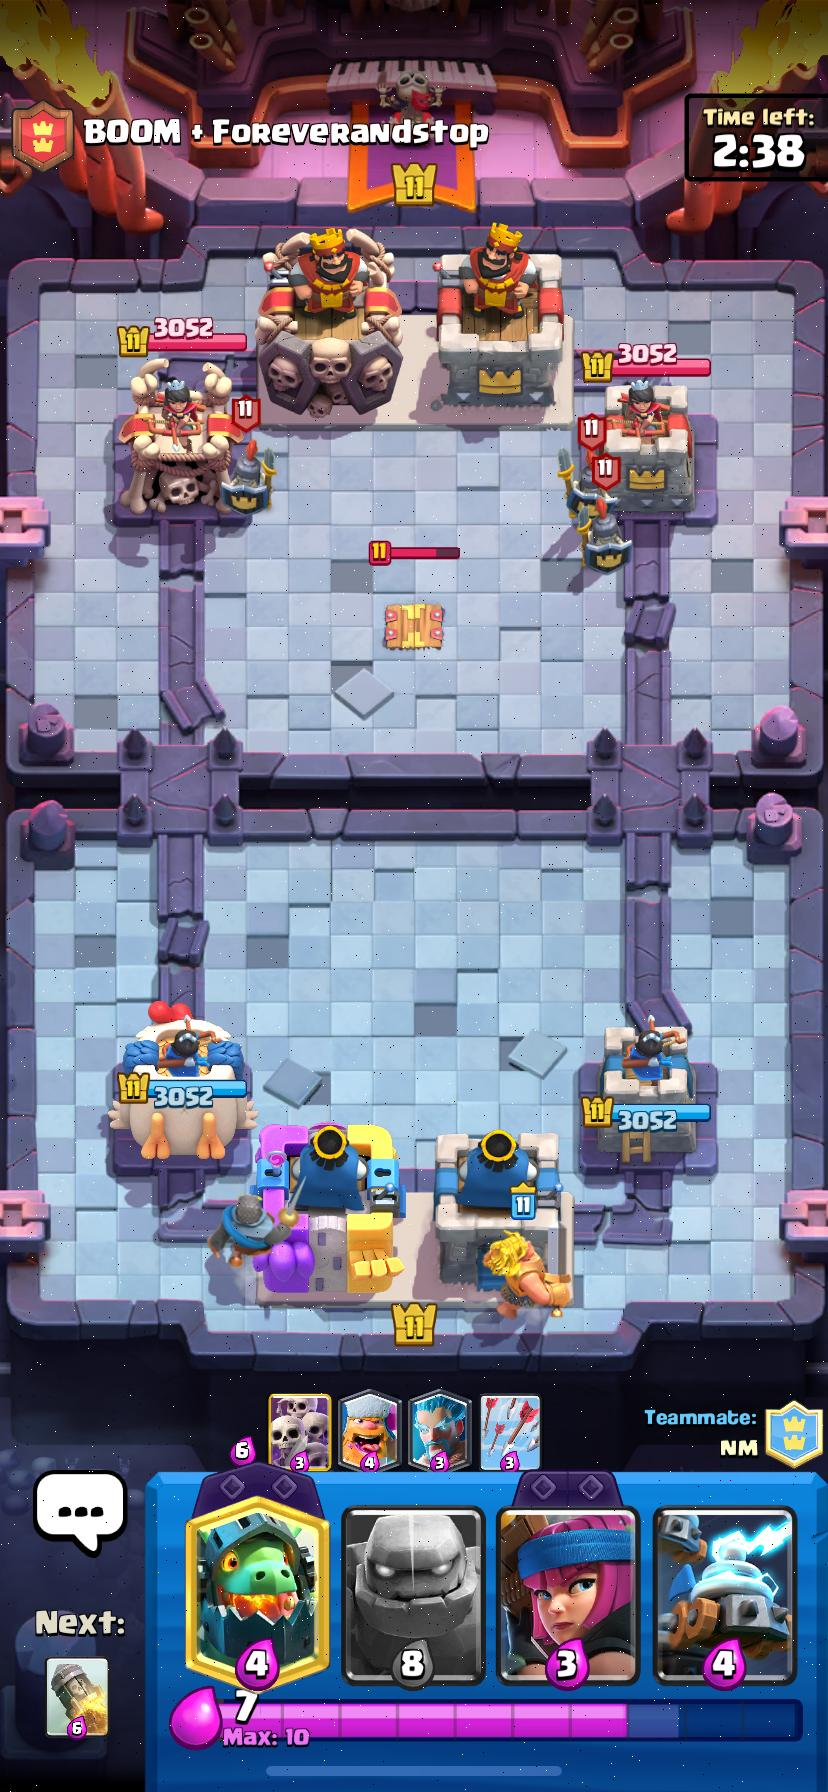EGuard: (221, 439, 274, 514), (578, 506, 630, 571), (567, 461, 607, 522)
EKingTower: (256, 229, 401, 417), (432, 225, 567, 409)
ETesla: (383, 603, 444, 650)
EnemyPrincessTower: (117, 359, 241, 514), (592, 382, 694, 515)
OKnight: (208, 1192, 290, 1265)
ORoyalKnight: (486, 1232, 570, 1315)
OwnKingTower: (254, 1118, 403, 1301), (433, 1128, 574, 1307)
OwnPrincessTower: (111, 1002, 255, 1159), (580, 1017, 711, 1168)
